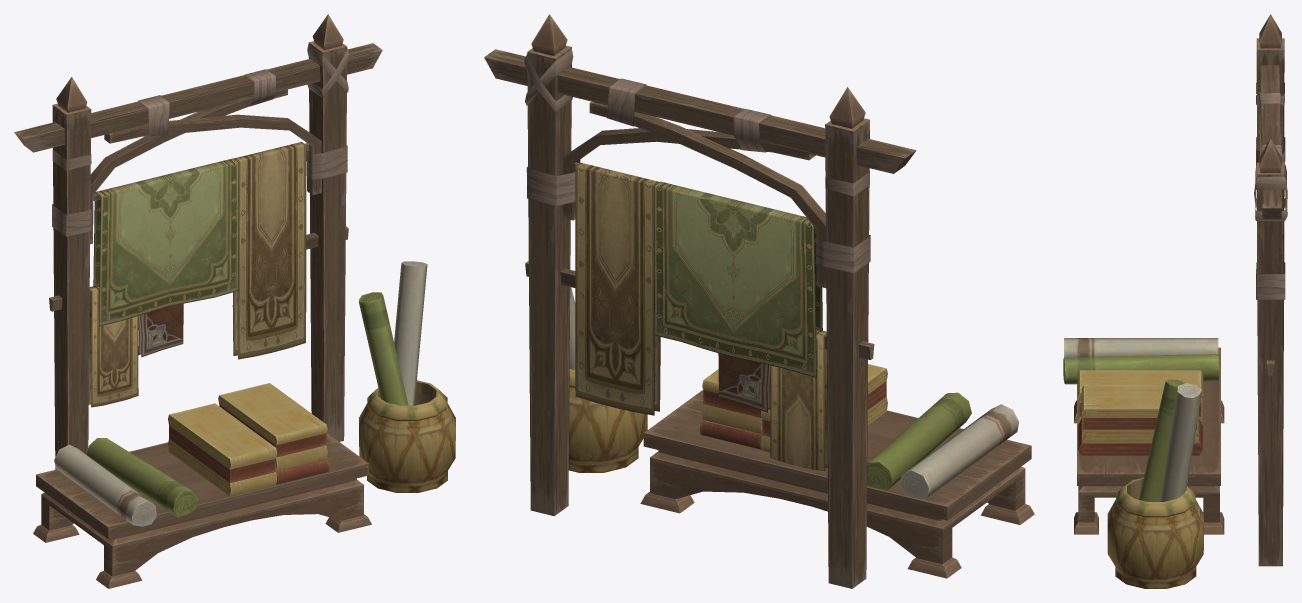
The model's file is Homeworld_Exterior_Xm_Build_Stall_03_Lod0.fbx.
3 views of the same model, side by side, from view 1: azimuth 30°, elevation 25°; view 2: azimuth 150°, elevation 25°; view 3: azimuth 270°, elevation 25° (orthographic). The views are drawn at different scales.
Parts seen in each view (by area): view 1: Area_Xm_Prop_XKC_Chengshijiaju_05_Lod0; view 2: Area_Xm_Prop_XKC_Chengshijiaju_05_Lod0; view 3: Area_Xm_Prop_XKC_Chengshijiaju_05_Lod0.
Boxes of the visible parts, bbox=[...] form: Area_Xm_Prop_XKC_Chengshijiaju_05_Lod0: bbox=[14, 14, 455, 588]; Area_Xm_Prop_XKC_Chengshijiaju_05_Lod0: bbox=[484, 14, 1034, 588]; Area_Xm_Prop_XKC_Chengshijiaju_05_Lod0: bbox=[1063, 14, 1287, 588].
Size of the model in its own units: 2.51 by 2.66 by 1.28.
